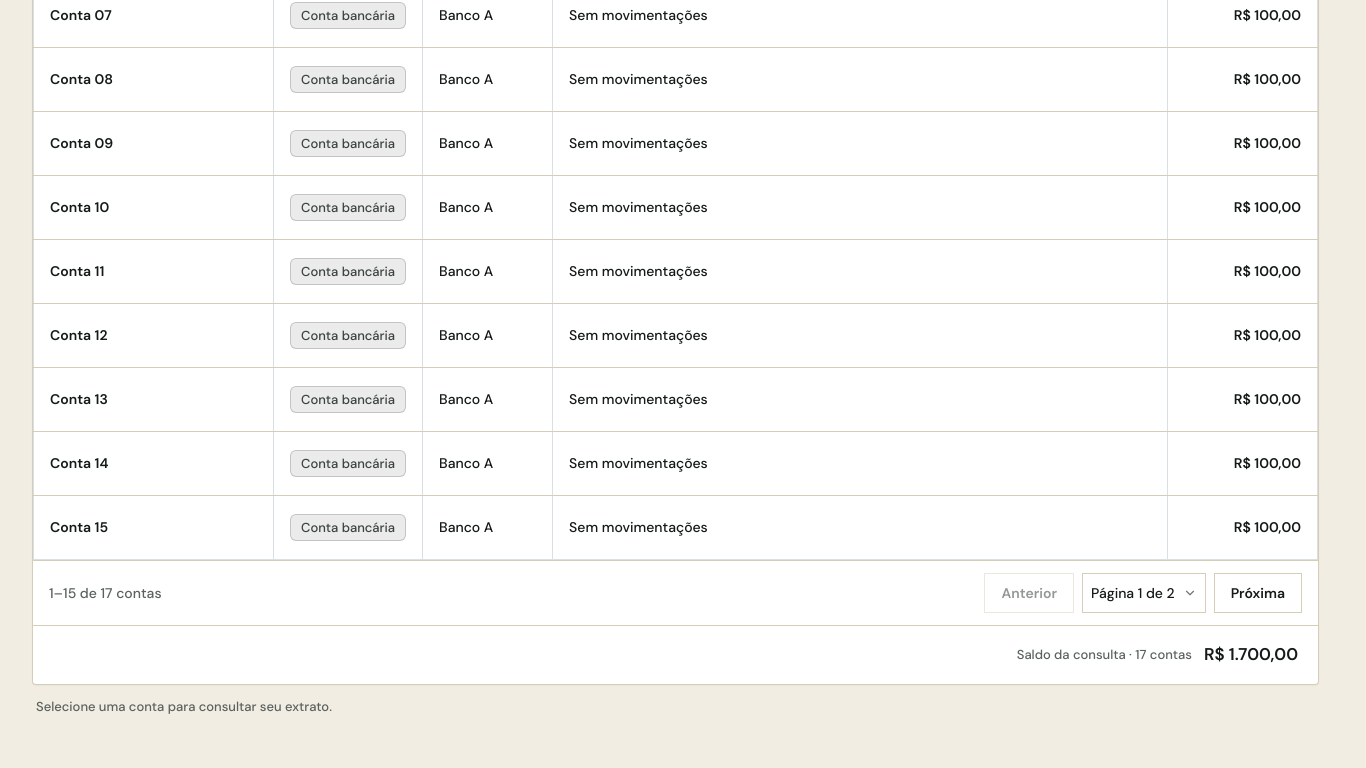
Test: pagina contas e busca em todos os registros antes de paginar
(page scrolled)
Step 1. Click the button "Próxima" → (1258,593), box [1214,573,1302,613]
(page scrolled)
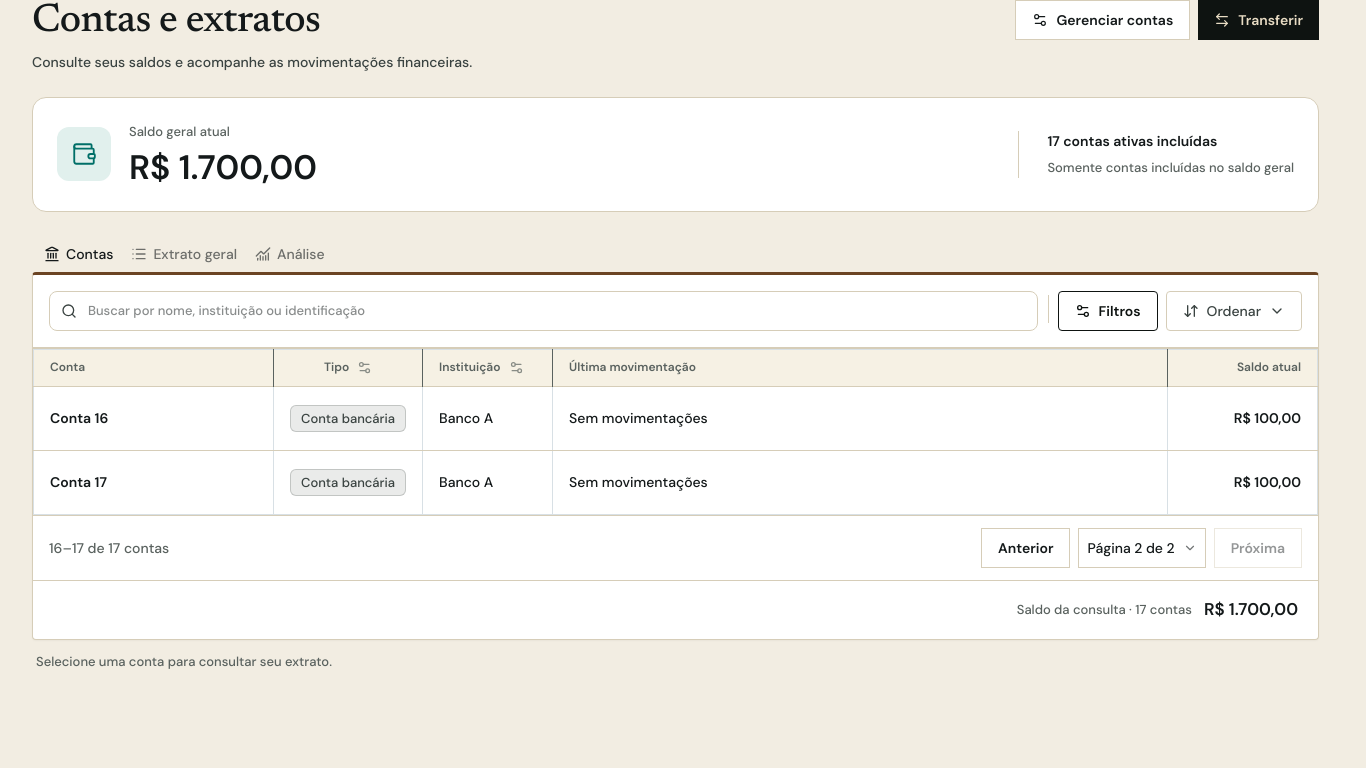
Expected: the link "Conta 17" is shown, [50,472,107,492]
Step 2. Type "Conta 01" into the search field named "Buscar conta" → (543,311), box [49,291,1038,331]
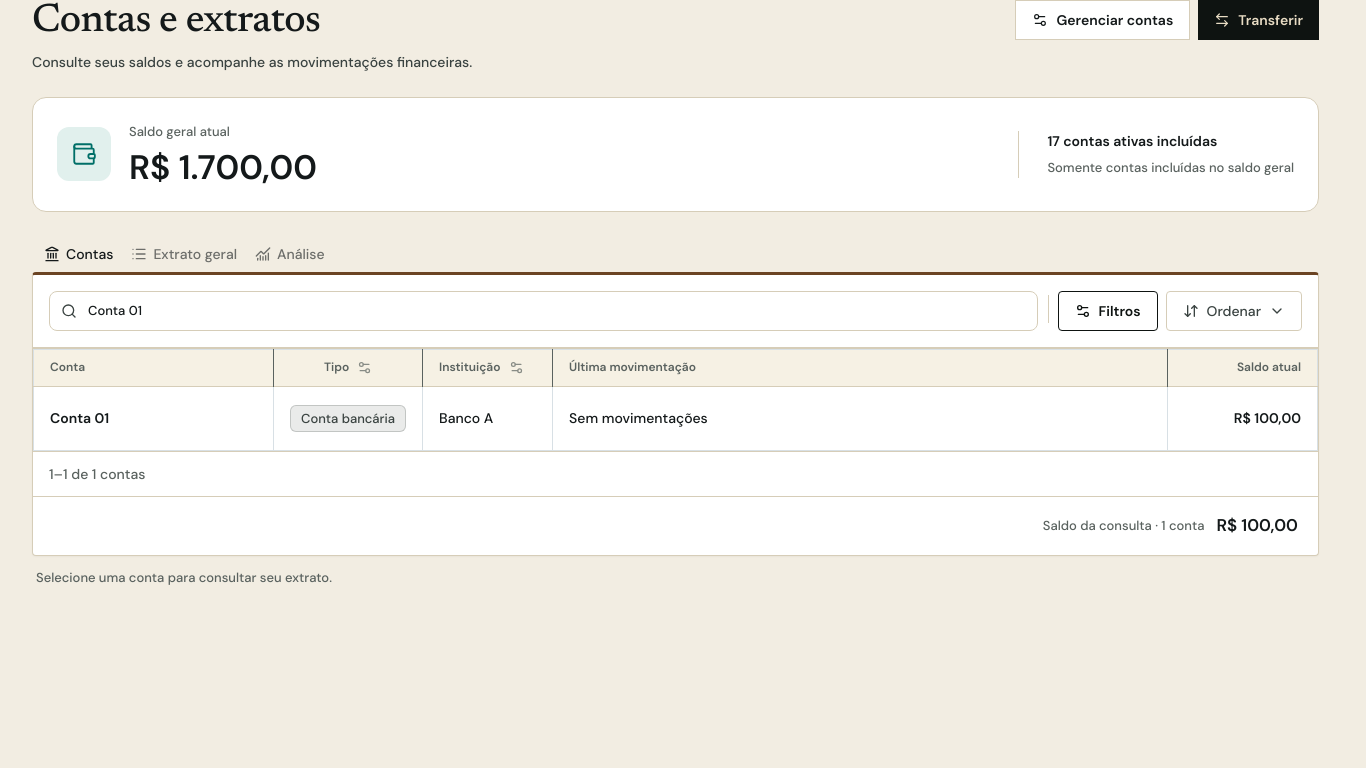
Expected: the link "Conta 01" is shown, [50,408,109,428]
Expected: the navigation bar named "Paginação das contas" shows "1–1 de 1", [33,451,1318,496]
